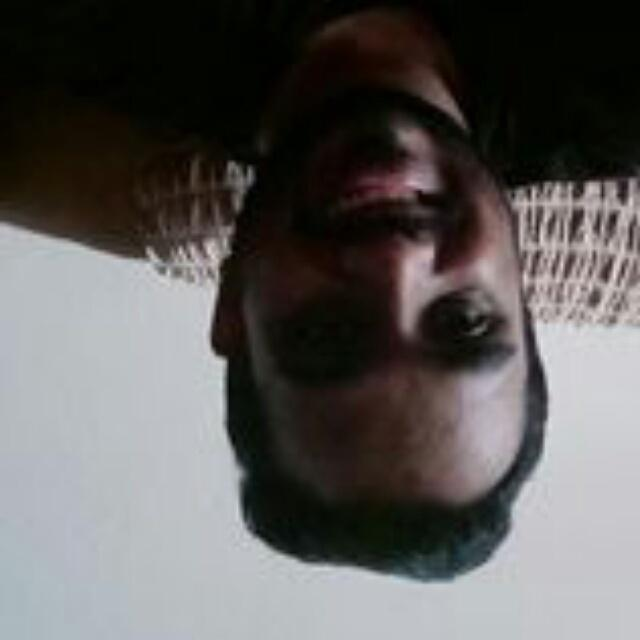happy: (212, 96, 579, 575)
